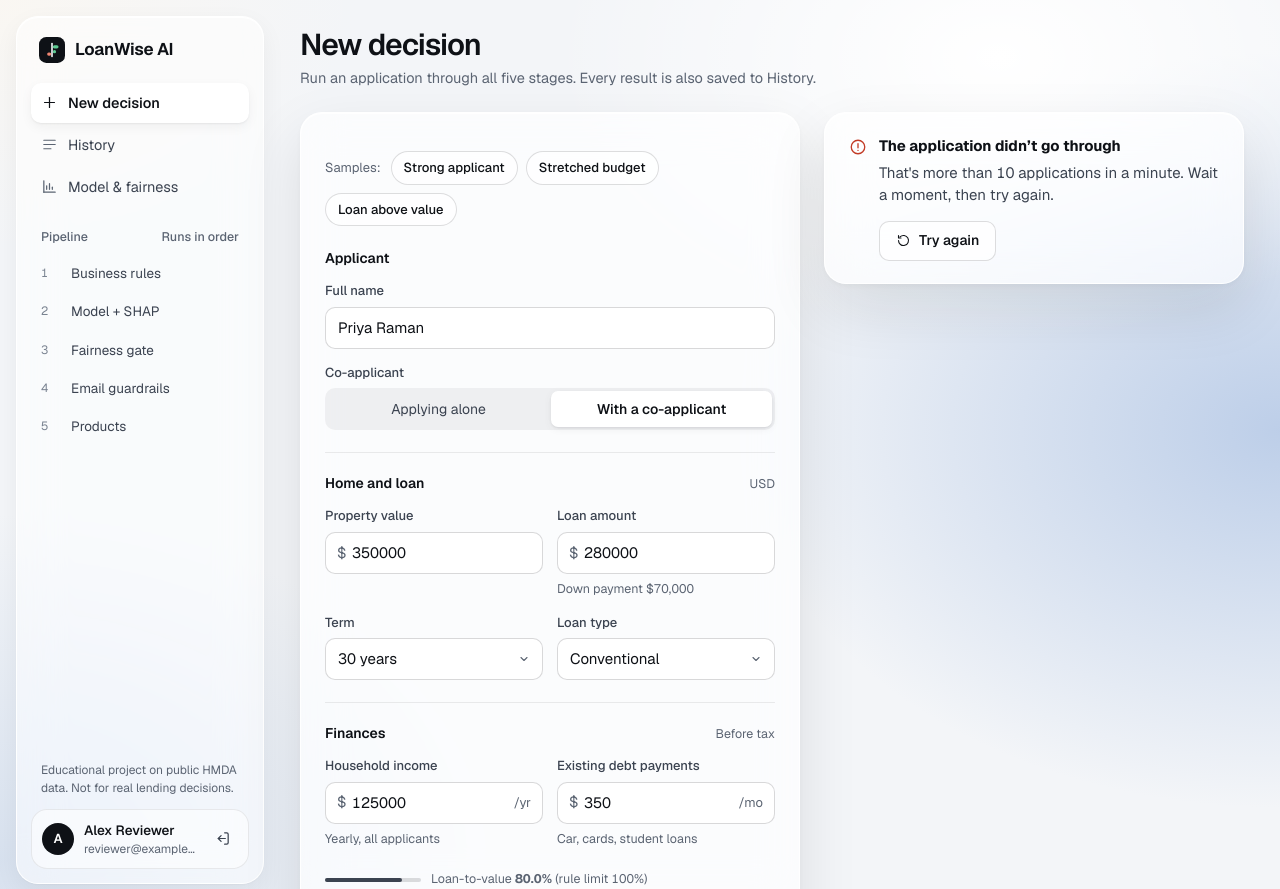
New decision › shows an error with a working retry
The image size is (1280, 889).
Check: the message shows "10 applications in a minute", box x1=879 y1=163 x2=1218 y2=204
What coordinates should you click on to do the following:
click the button "Try again"
I would click on:
 (938, 241)
Its box is x1=879 y1=221 x2=996 y2=261.
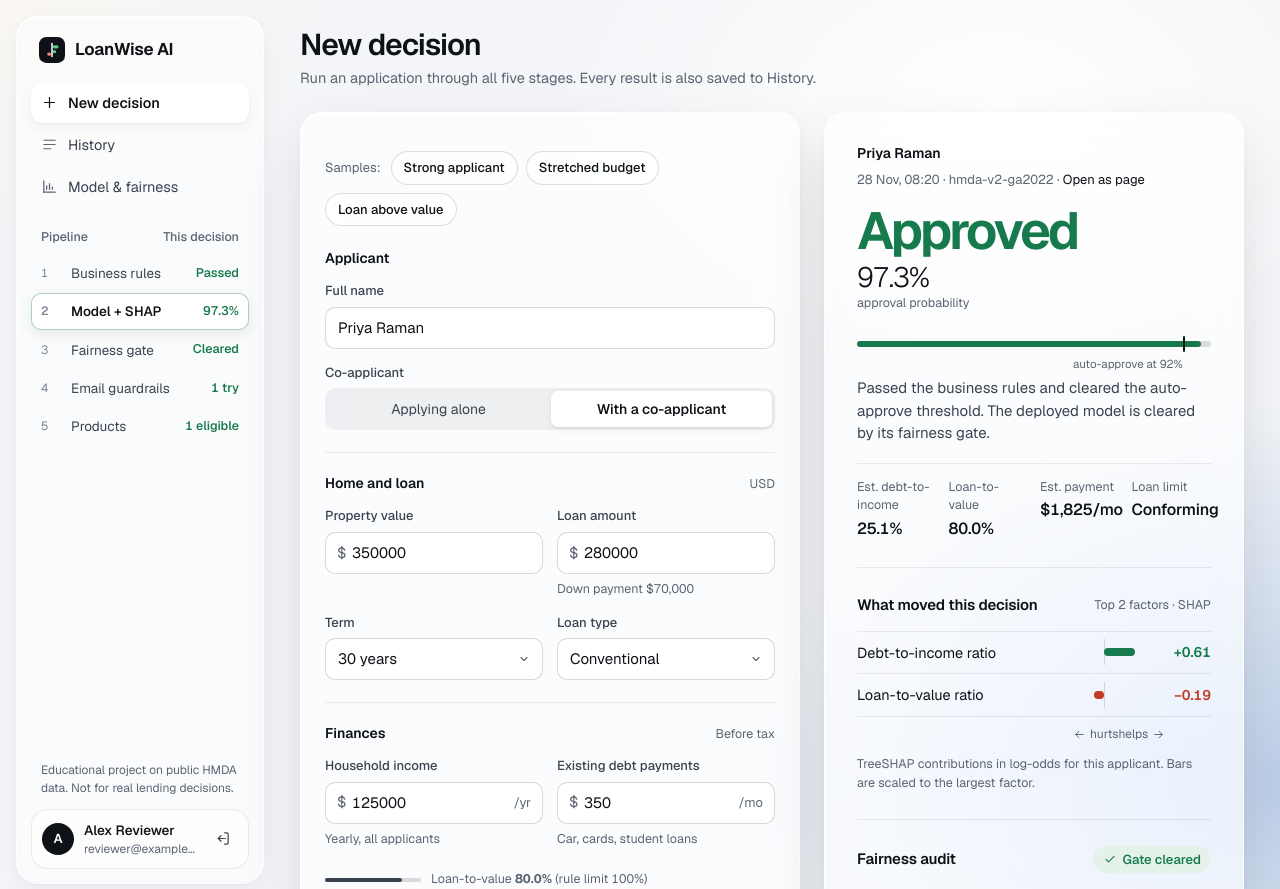
Check: the heading "Approved" is shown, box x1=857 y1=208 x2=1078 y2=255
